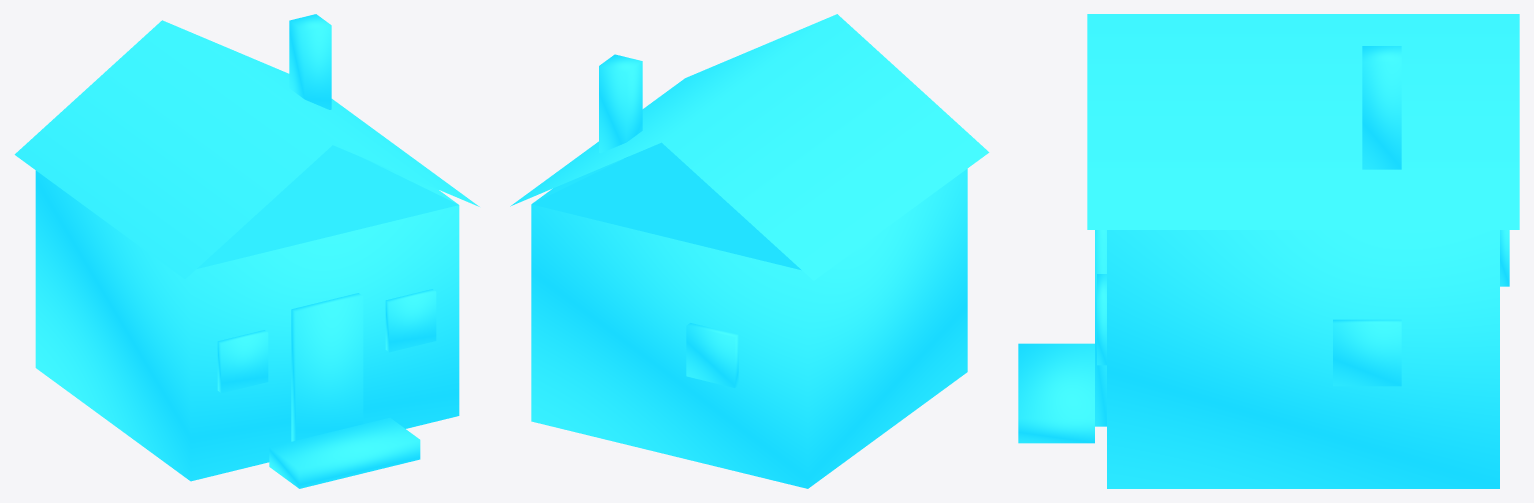
The model's file is machine_game.glb.
3 views of the same model, side by side, from view 1: azimuth 30°, elevation 25°; view 2: azimuth 150°, elevation 25°; view 3: azimuth 270°, elevation 25° (orthographic). The views are drawn at different scales.
Parts seen in each view (by area): view 1: walls, roof, door, porch, windows, chimney; view 2: walls, roof, chimney, windows; view 3: walls, roof, porch, windows, chimney, door.
Part boxes in pixels (bbox=[...]): walls: bbox=[35, 157, 459, 481]; roof: bbox=[14, 20, 479, 279]; door: bbox=[291, 293, 363, 441]; porch: bbox=[269, 418, 420, 488]; windows: bbox=[217, 289, 436, 393]; chimney: bbox=[289, 14, 331, 109]; walls: bbox=[531, 159, 967, 488]; roof: bbox=[510, 14, 989, 280]; chimney: bbox=[599, 54, 642, 158]; windows: bbox=[686, 323, 738, 387]; walls: bbox=[1107, 230, 1499, 488]; roof: bbox=[1087, 14, 1519, 229]; porch: bbox=[1018, 343, 1094, 443]; windows: bbox=[1097, 230, 1509, 386]; chimney: bbox=[1362, 46, 1401, 169]; door: bbox=[1095, 230, 1106, 426].
Size of the model in its own units: 4.4 by 4.6 by 5.1.
5 materials, 5 textured.
